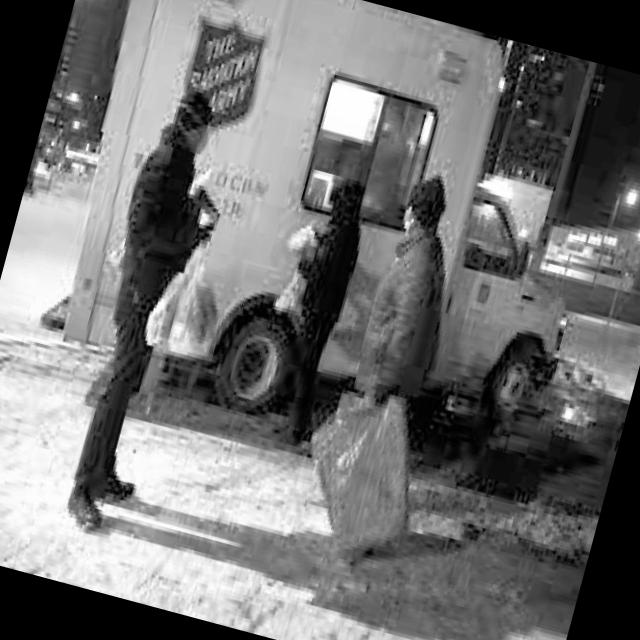Truck: (25, 0, 636, 491)
